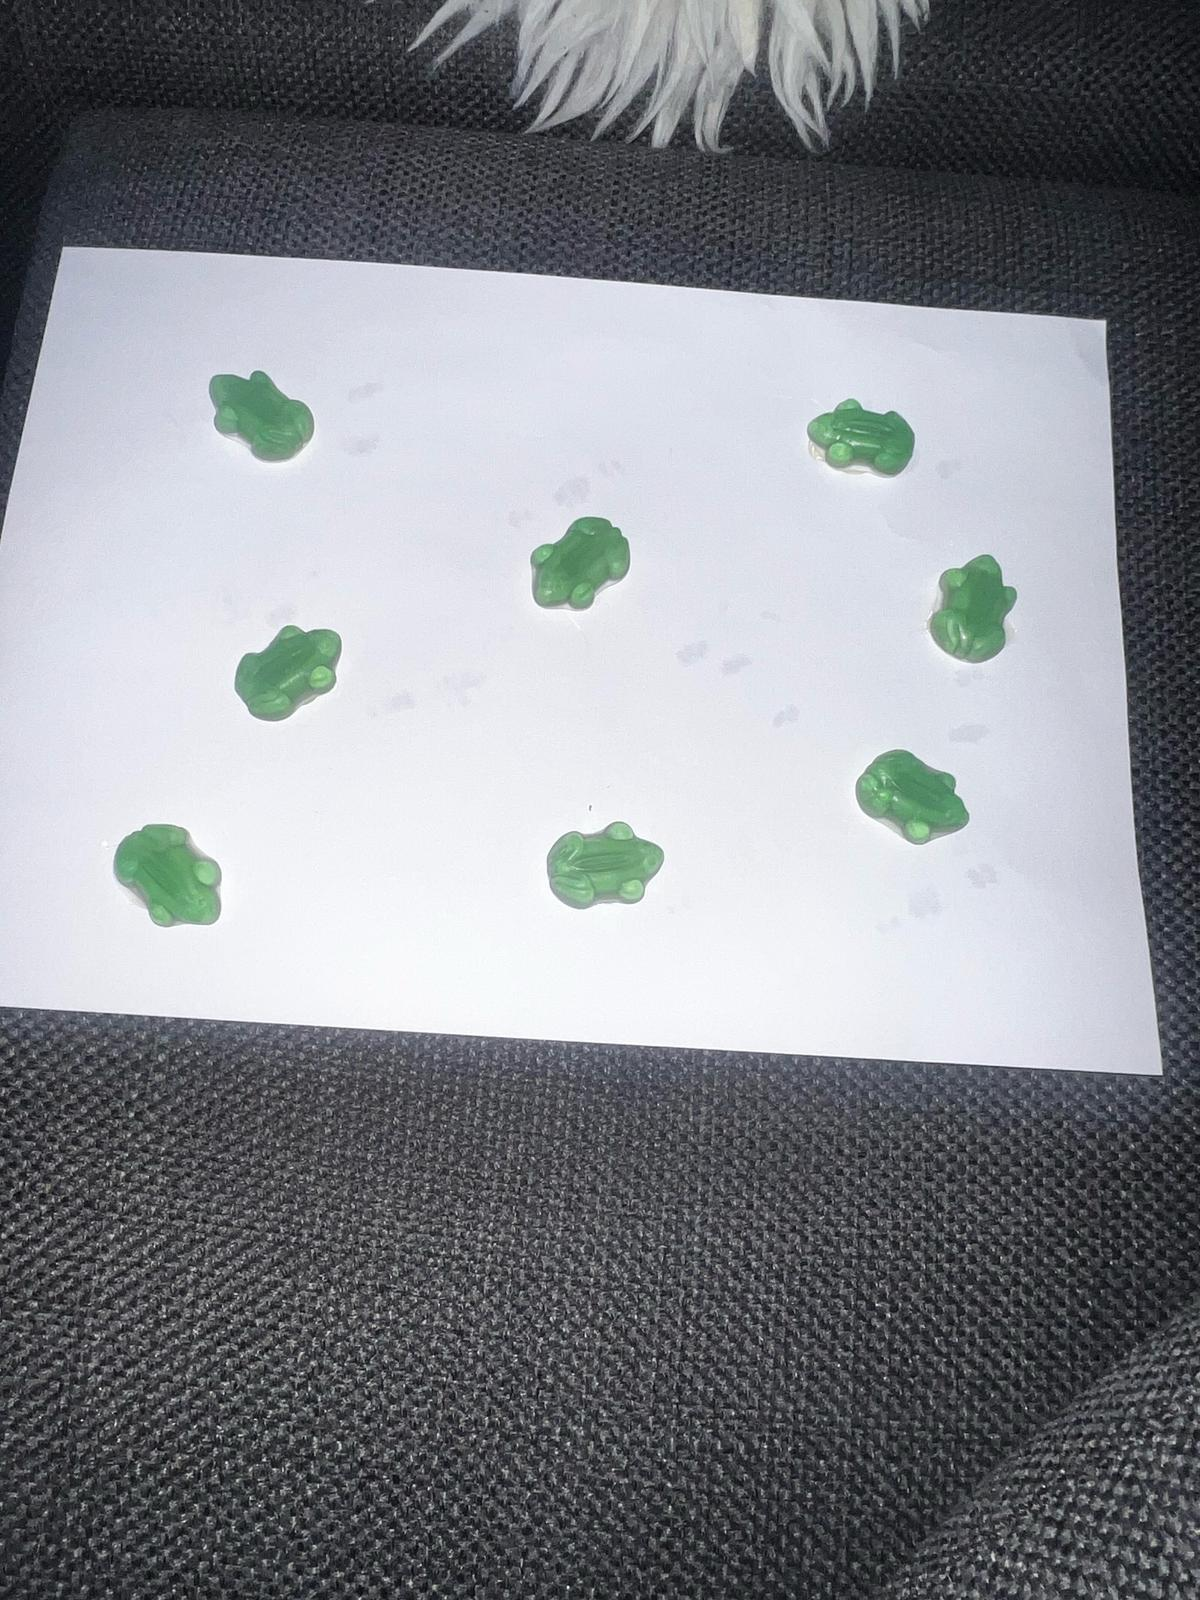frog: (102, 821, 239, 934), (853, 745, 973, 850), (203, 363, 321, 467), (547, 816, 666, 920), (522, 513, 637, 619), (229, 621, 345, 726), (799, 394, 920, 481), (929, 553, 1021, 664)
